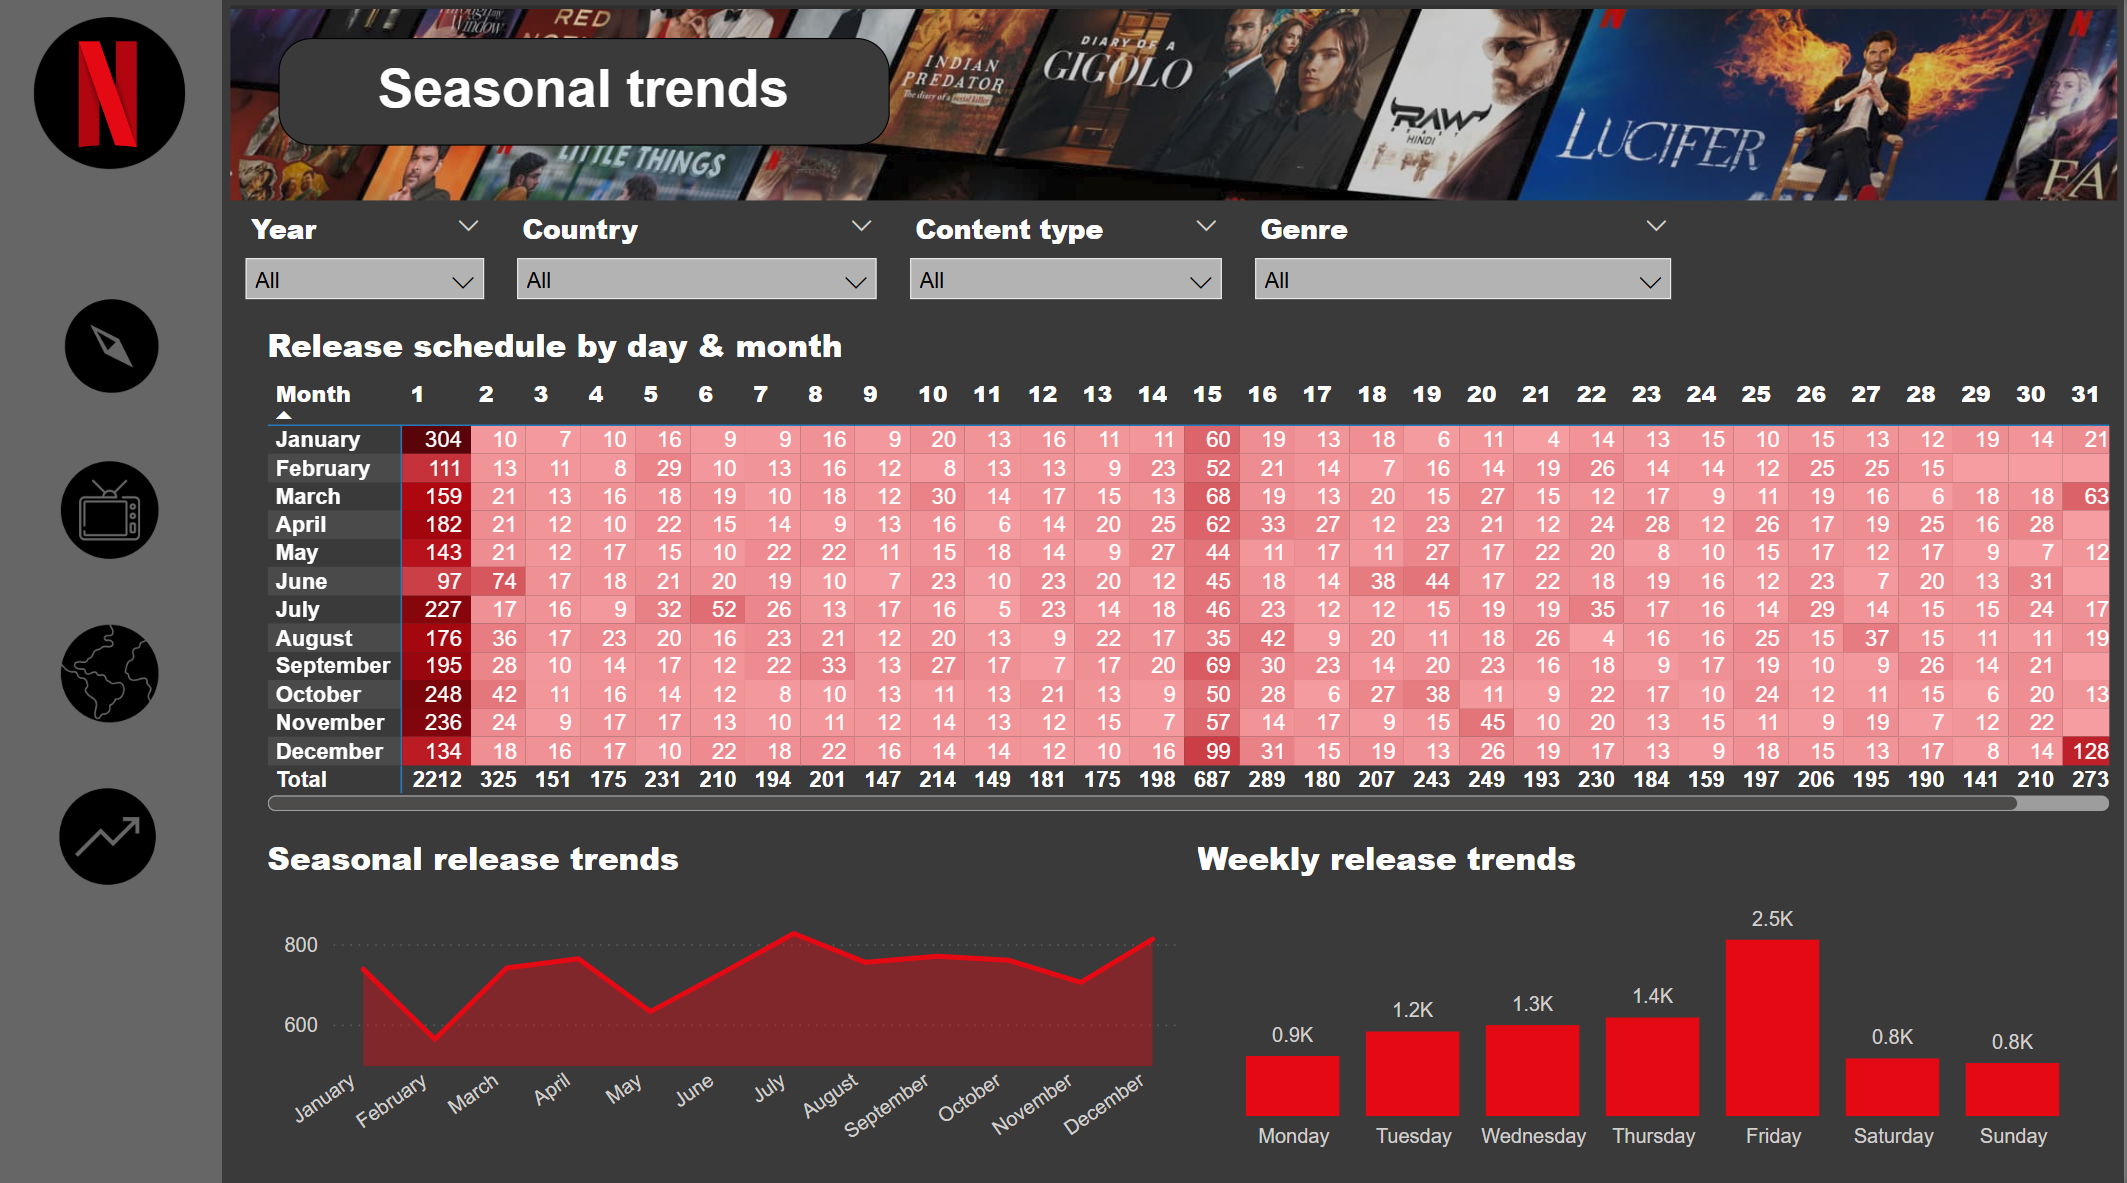

The dashboard page shown, as its layout file describes it:
{"tool":"powerbi","page":{"name":"Seasonal Trends","canvas":[1280,720],"ordinal":3},"visuals":[{"type":"image","box":[136,0,1144,132],"z":0},{"type":"shape","box":[0,0,136.4,719.5],"z":1000},{"type":"image","box":[0,0,136.8,119.6],"z":2000},{"type":"image","box":[34.4,163.7,68.7,98],"z":3000},{"type":"image","box":[34.4,359.8,68.7,98],"z":4000},{"type":"textbox","box":[170,27.2,367.1,64.4],"z":5000},{"type":"image","box":[34.5,261.8,69.1,98.2],"z":6000},{"type":"image","box":[33.6,458.2,68.2,98.2],"z":7000},{"type":"pivotTable","title":"Release schedule by day & month","fields":{"Rows":["netflix_titles.Month_Name"],"Columns":["netflix_titles.Day"],"Values":["netflix_titles._Daily_Releases"]},"box":[159,198,1117,298],"z":8000},{"type":"areaChart","title":"Seasonal release trends","fields":{"Category":["netflix_titles.date_added.Variation.Date Hierarchy.Year","netflix_titles.date_added.Variation.Date Hierarchy.Quarter","netflix_titles.date_added.Variation.Date Hierarchy.Month","netflix_titles.date_added.Variation.Date Hierarchy.Day"],"Y":["Count(netflix_titles.show_id)"]},"box":[159,507,559,196],"z":9000},{"type":"columnChart","title":"Weekly release trends","fields":{"Y":["Count(netflix_titles.show_id)"],"Category":["netflix_titles._Day_Name"]},"box":[718,507,558,196],"z":10000},{"type":"slicer","fields":{"Values":["netflix_titles.Year"]},"box":[141,125,163,68],"z":11000},{"type":"slicer","fields":{"Values":["countries.country"]},"box":[304,125,236,68],"z":12000},{"type":"slicer","fields":{"Values":["netflix_titles.type"]},"box":[540,125,207,68],"z":13000},{"type":"slicer","fields":{"Values":["genres.genre"]},"box":[747,125,270,68],"z":14000}]}

Visuals, with their boxes in screenshot pixels (x1, y1, x2, y2), scaled from the page's 1280x720 canvas onto the 2127x1183 screenshot:
image: select_region(226, 0, 2126, 217)
shape: select_region(0, 0, 227, 1182)
image: select_region(0, 0, 227, 197)
image: select_region(57, 269, 171, 430)
image: select_region(57, 591, 171, 752)
textbox: select_region(282, 45, 893, 151)
image: select_region(57, 430, 172, 592)
image: select_region(56, 753, 169, 914)
"Release schedule by day & month" pivotTable: select_region(264, 325, 2120, 815)
"Seasonal release trends" areaChart: select_region(264, 833, 1193, 1155)
"Weekly release trends" columnChart: select_region(1193, 833, 2120, 1155)
slicer - netflix_titles.Year: select_region(234, 205, 505, 317)
slicer - countries.country: select_region(505, 205, 897, 317)
slicer - netflix_titles.type: select_region(897, 205, 1241, 317)
slicer - genres.genre: select_region(1241, 205, 1690, 317)
